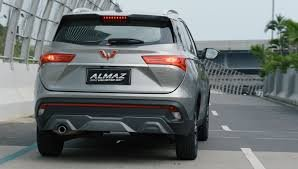mobil: (35, 8, 211, 163)
